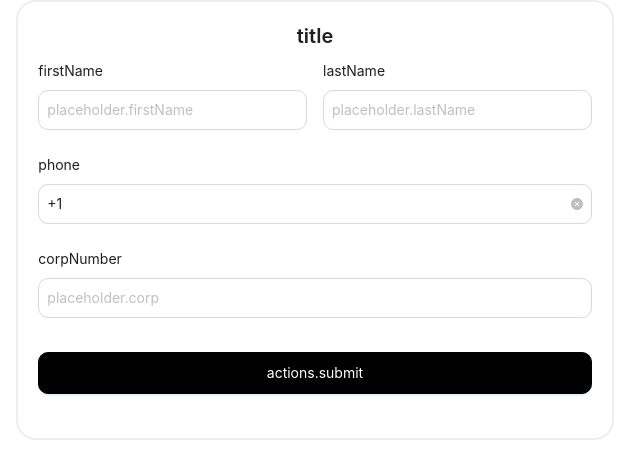
Test: OnboardingPage integration › formats phone as +1 416 555 1234 while typing
Type "4165551234" into the field labelled "phone" at (307, 204), box [47,193,567,215]
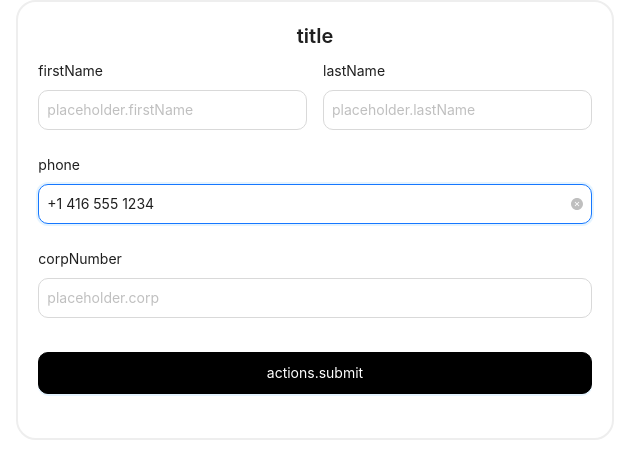
Check: the field labelled "phone" holds "+1 416 555 1234", box [47,193,567,215]
